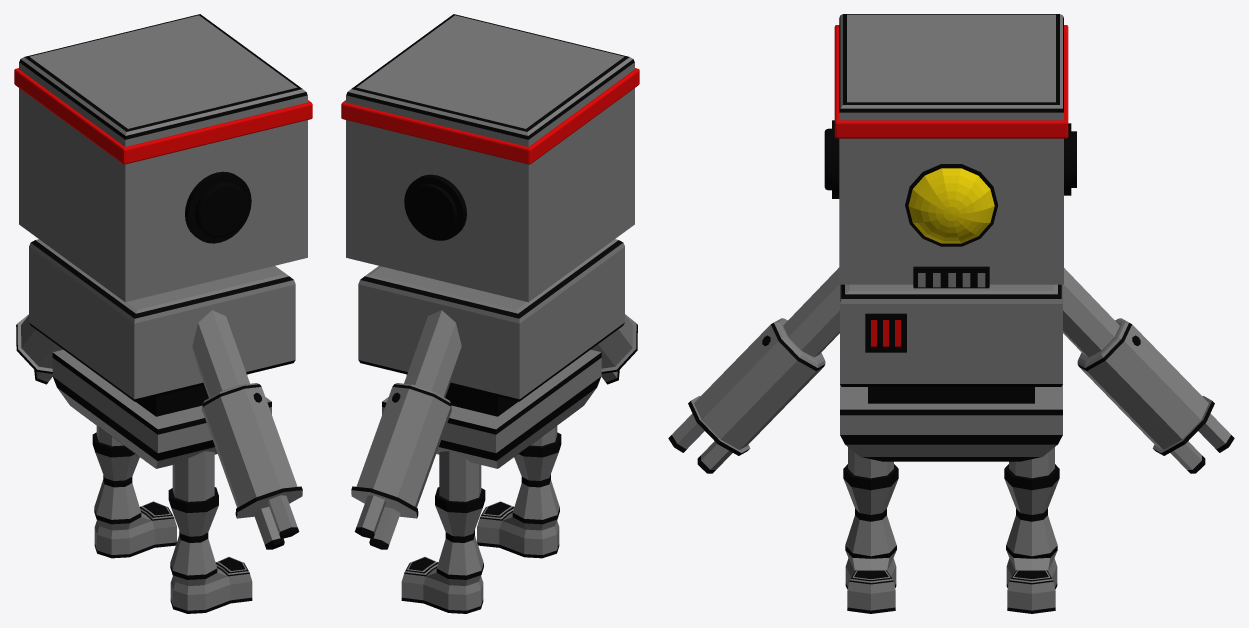
Rendered from small-robot-prototype.fbx.
The picture shows the model from 3 angles, left to right: view 1: azimuth 30°, elevation 25°; view 2: azimuth 150°, elevation 25°; view 3: azimuth 270°, elevation 25°; orthographic projection. The views are drawn at different scales.
Parts seen in each view (by area): view 1: Head, Torso, Legs, Rece, Daiper, Back; view 2: Head, Torso, Legs, Rece, Daiper, Back; view 3: Head, Rece, Torso, Legs, Daiper, Back, Mouth.
Part boxes in pixels (<box>): Head: <box>14,14,312,302</box>; Torso: <box>29,239,295,401</box>; Legs: <box>92,426,252,613</box>; Rece: <box>16,310,302,549</box>; Daiper: <box>52,349,271,468</box>; Back: <box>136,385,208,416</box>; Head: <box>341,14,639,302</box>; Torso: <box>358,239,624,401</box>; Legs: <box>401,426,561,613</box>; Rece: <box>351,310,637,549</box>; Daiper: <box>382,349,601,468</box>; Back: <box>406,374,517,416</box>; Head: <box>824,14,1076,284</box>; Rece: <box>668,267,1234,473</box>; Torso: <box>840,284,1062,386</box>; Legs: <box>843,447,1059,613</box>; Daiper: <box>840,384,1062,461</box>; Back: <box>868,387,1034,403</box>; Mouth: <box>913,266,989,288</box>.
Size of the model in its own units: 89.66 by 210 by 203.
